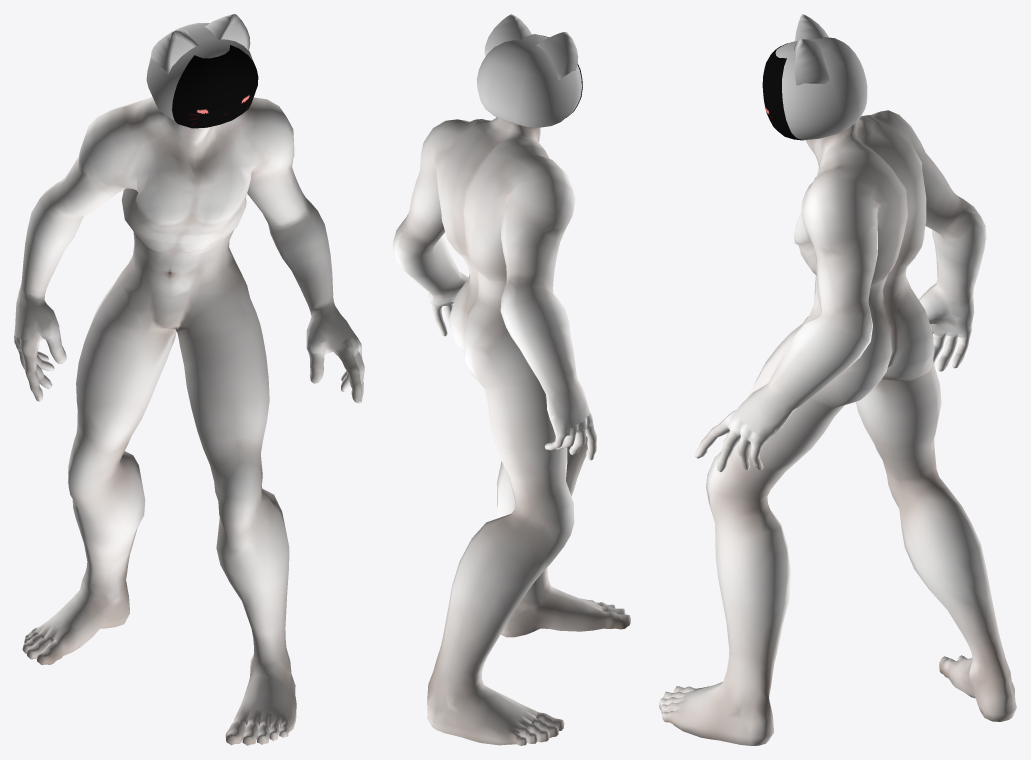
The picture shows the model from 3 angles, left to right: view 1: azimuth 30°, elevation 25°; view 2: azimuth 150°, elevation 25°; view 3: azimuth 270°, elevation 25°; orthographic projection. The views are drawn at different scales.
Parts seen in each view (by area): view 1: Muscle_Body, ______?001, Cat_Head; view 2: Muscle_Body, Cat_Head; view 3: Muscle_Body, Cat_Head, ______?001.
Boxes of the visible parts, x1,y1,x2,y2 form: Muscle_Body: (14, 96, 364, 745); ______?001: (172, 45, 258, 128); Cat_Head: (146, 14, 252, 121); Muscle_Body: (393, 117, 630, 745); Cat_Head: (477, 14, 581, 127); Muscle_Body: (659, 110, 1016, 745); Cat_Head: (775, 14, 867, 139); ______?001: (762, 43, 803, 140).
Bounding box in the file's own units: 10.97 × 27.92 × 13.06.
